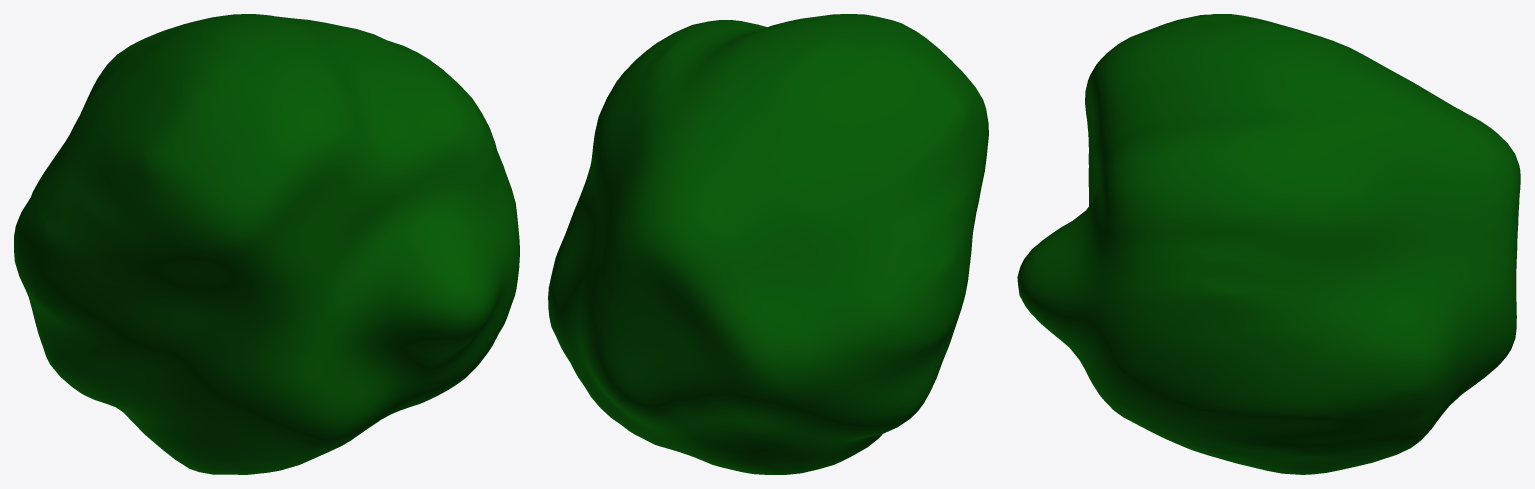
File: Lesion.obj
3 renders of one model, left to right at view 1: azimuth 30°, elevation 25°; view 2: azimuth 150°, elevation 25°; view 3: azimuth 270°, elevation 25°, orthographic. The views are drawn at different scales.
Visible parts, largest first — view 1: grp1; view 2: grp1; view 3: grp1.
Boxes of the visible parts, x1=… form: grp1: x1=14, y1=14, x2=519, y2=474; grp1: x1=548, y1=14, x2=988, y2=474; grp1: x1=1017, y1=14, x2=1520, y2=474.
Bounding box in the file's own units: 24.93 × 25.35 × 28.15.
